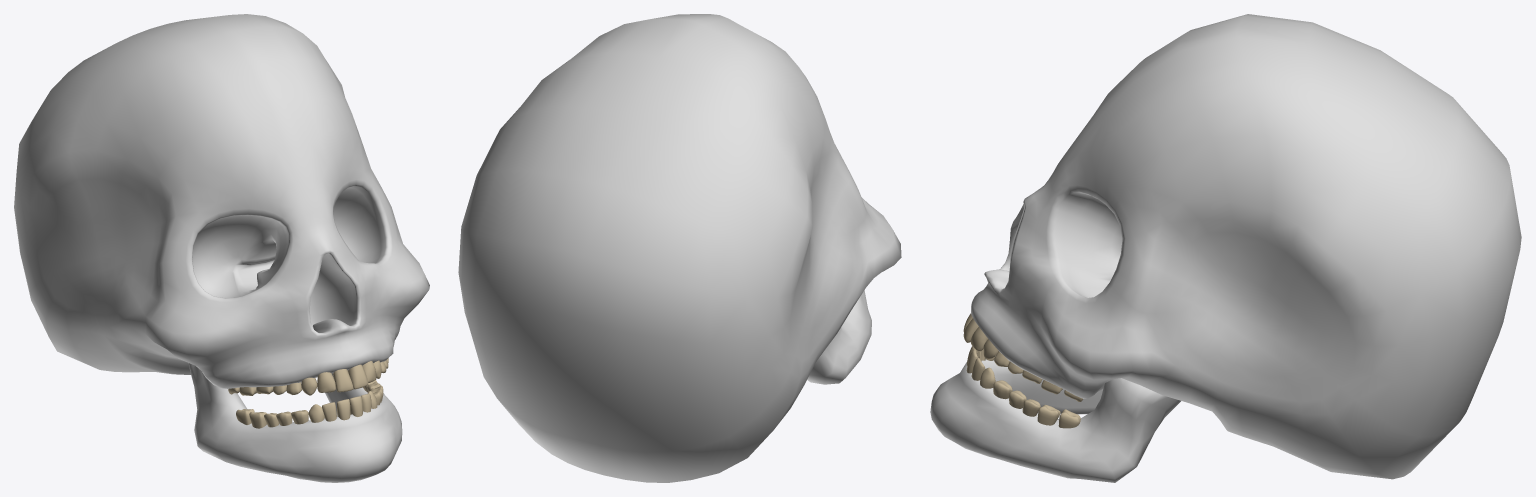
Rendered from skull.dae.
3 views of the same model, side by side, from view 1: azimuth 30°, elevation 25°; view 2: azimuth 150°, elevation 25°; view 3: azimuth 270°, elevation 25° (orthographic). The views are drawn at different scales.
Visible parts, largest first — view 1: Skull; view 2: Skull; view 3: Skull.
Part boxes in pixels (x1,y1,x2,y2): Skull: [14, 14, 429, 482]; Skull: [458, 14, 901, 482]; Skull: [930, 14, 1521, 482].
Size of the model in its own units: 0.2315 by 0.3516 by 0.2718.
